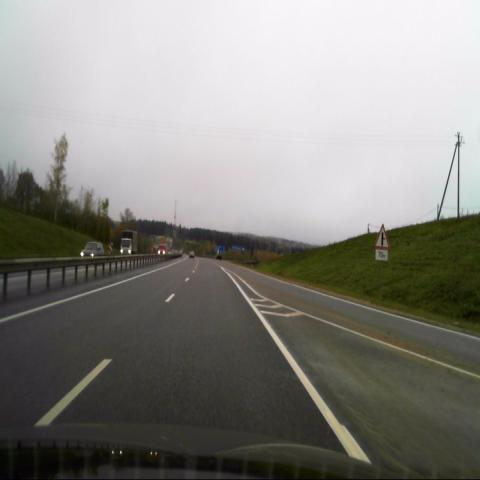2_3_2: (375, 225, 390, 247)
